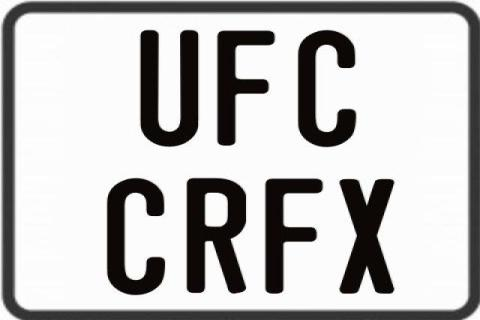C: (297, 28, 359, 149), (104, 178, 165, 298)
F: (216, 31, 280, 150), (266, 177, 326, 295)
R: (185, 176, 247, 292)
U: (140, 31, 201, 149)
X: (340, 180, 400, 294)
